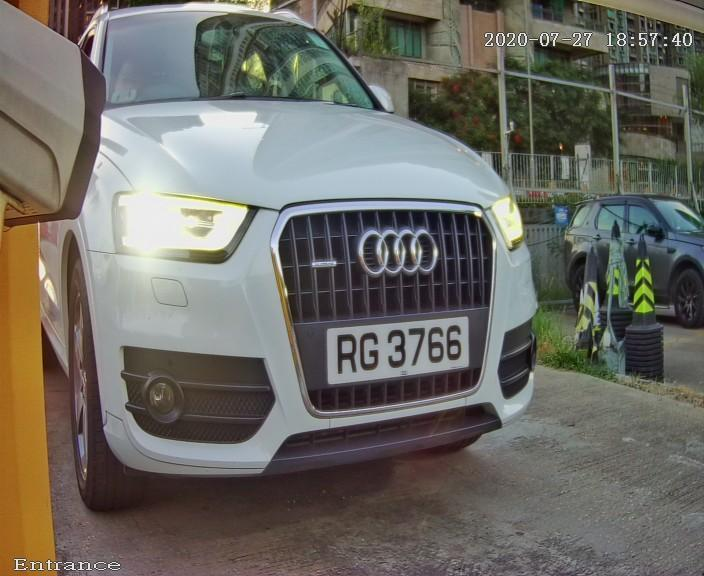privatecar: (54, 13, 582, 510)
